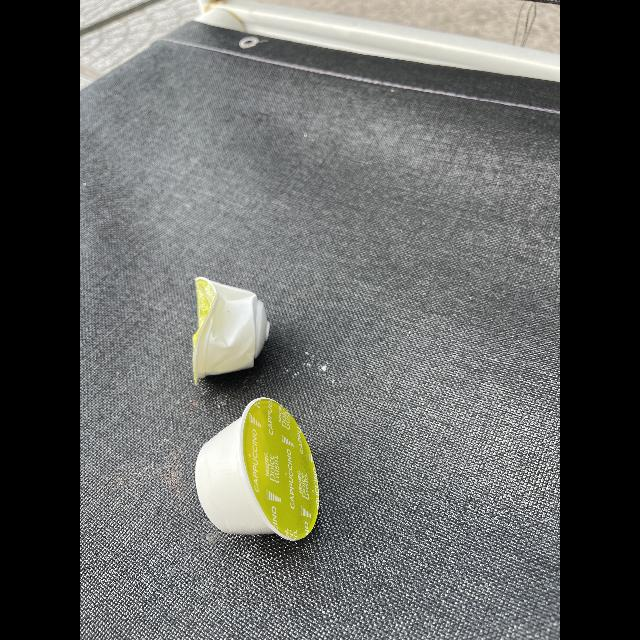damaged_capsule: (180, 268, 284, 390)
intact_capsule: (180, 388, 332, 548)
